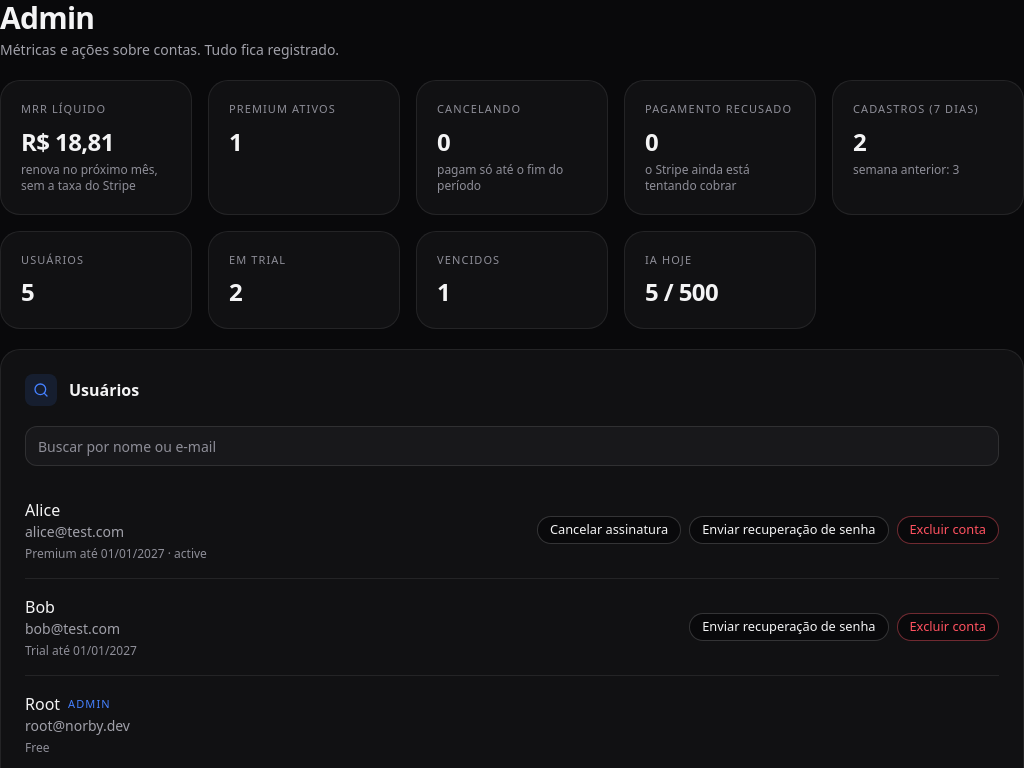
Scenario: Admin › senha errada mostra o erro sem fechar o diálogo
The width and height of the screenshot is (1024, 768).
Expected: the text "alice@test.com" is shown, left=25, top=522, right=124, bottom=541
Click the button "Excluir conta" in the row of "alice@test.com" at (948, 530), box left=896, top=516, right=999, bottom=544
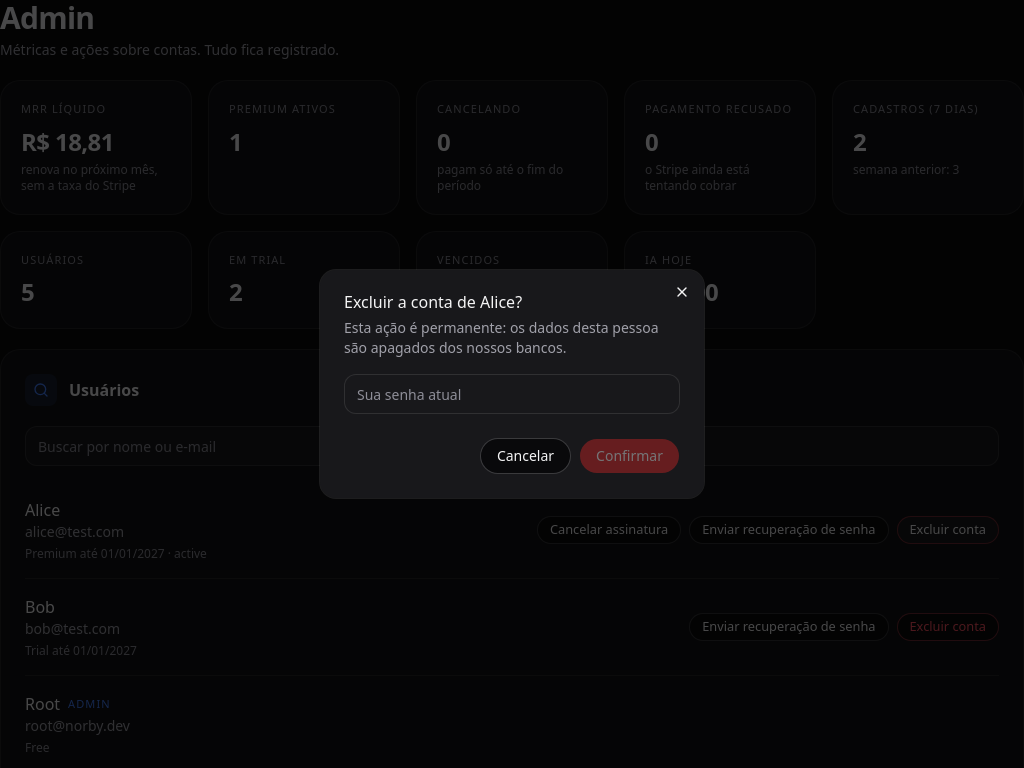
Type "senhaerrada" into the password field labelled "Sua senha atual" at (512, 394), box left=344, top=374, right=680, bottom=414
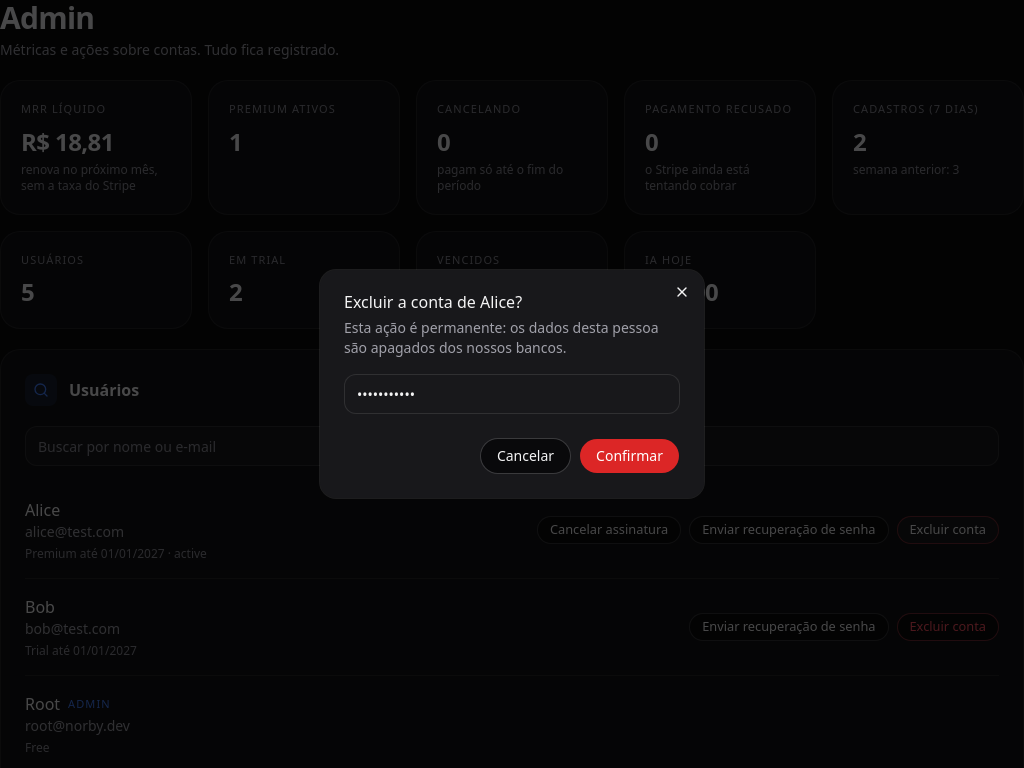
Click the button "Confirmar" at (630, 456), box left=579, top=438, right=680, bottom=474
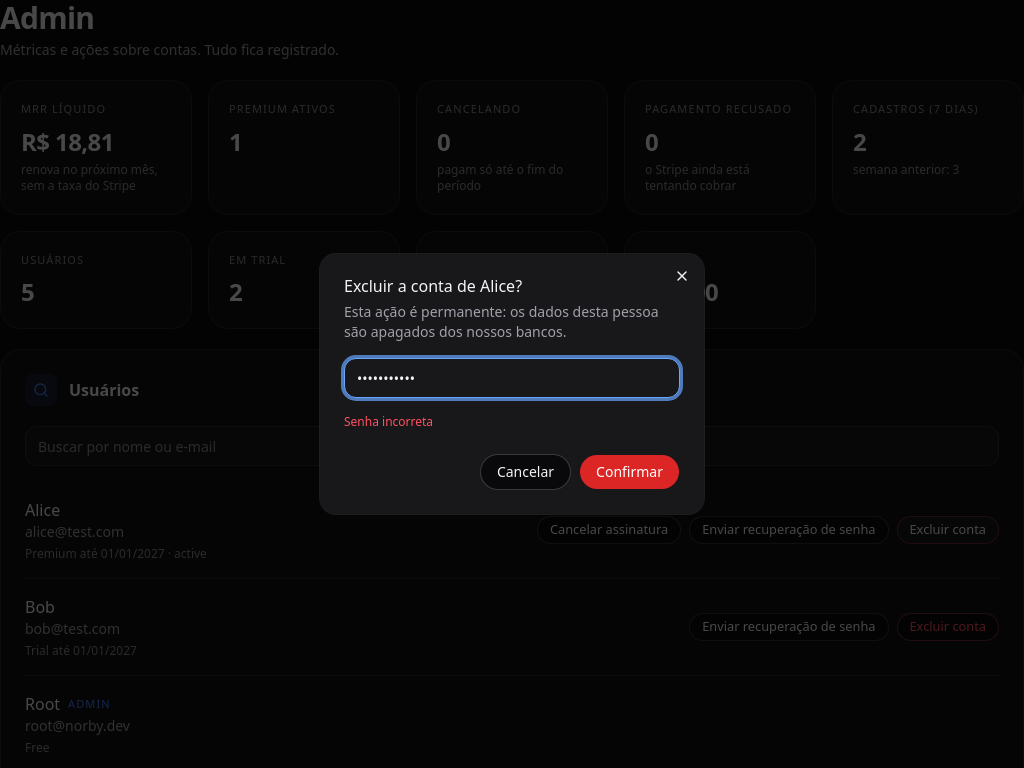
Expected: the text "Senha incorreta" is shown, left=344, top=413, right=433, bottom=430
